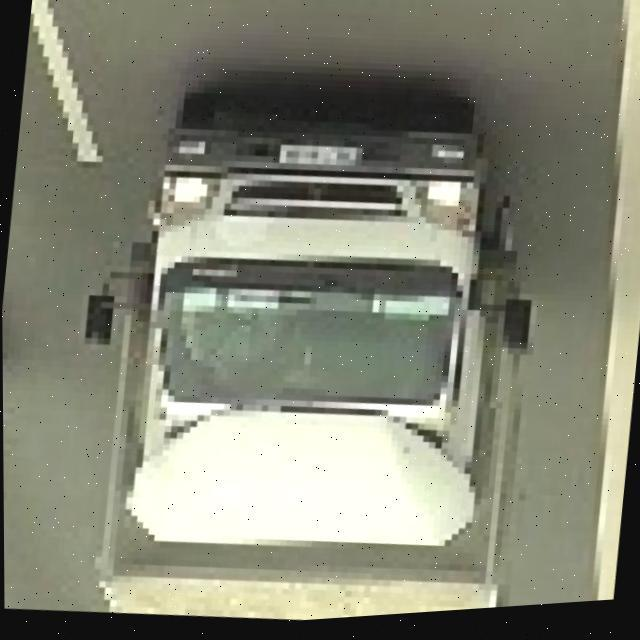truck: (53, 72, 544, 638)
